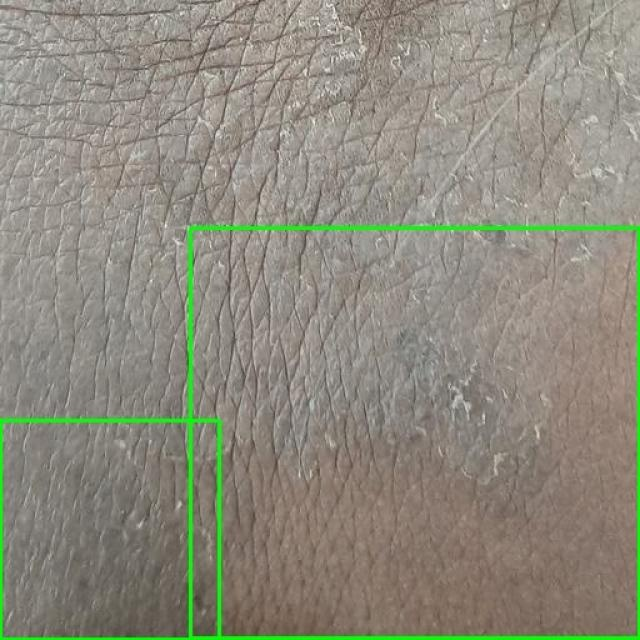Eczema: (190, 229, 639, 639), (0, 420, 219, 639)
